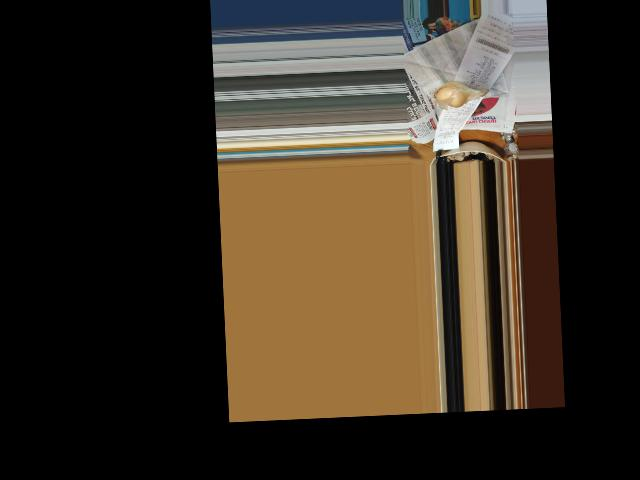onion: (435, 81, 476, 106)
